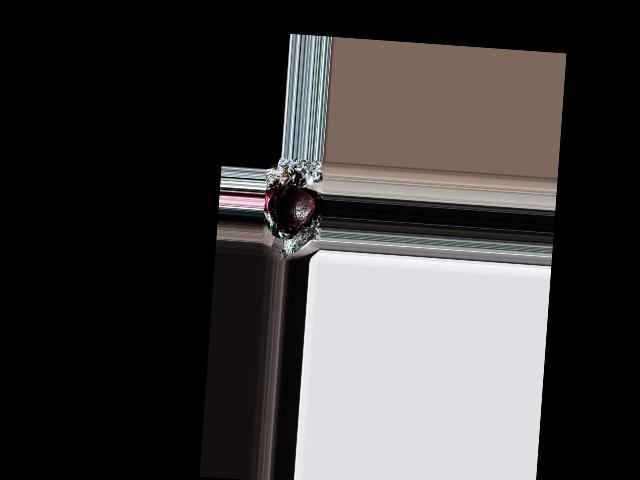beet: (274, 182, 316, 227)
